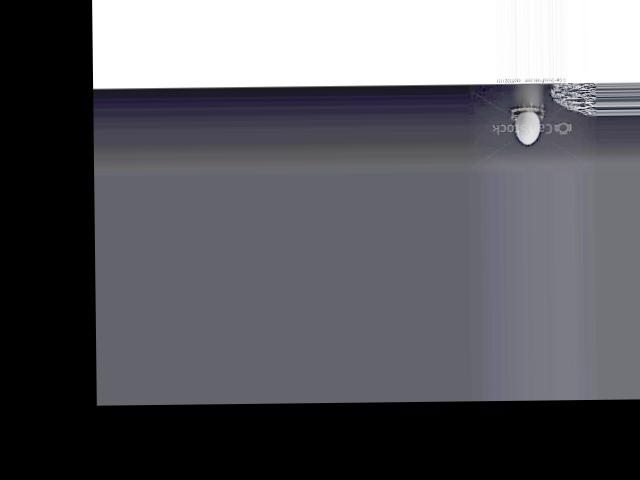egg: (514, 110, 540, 143)
